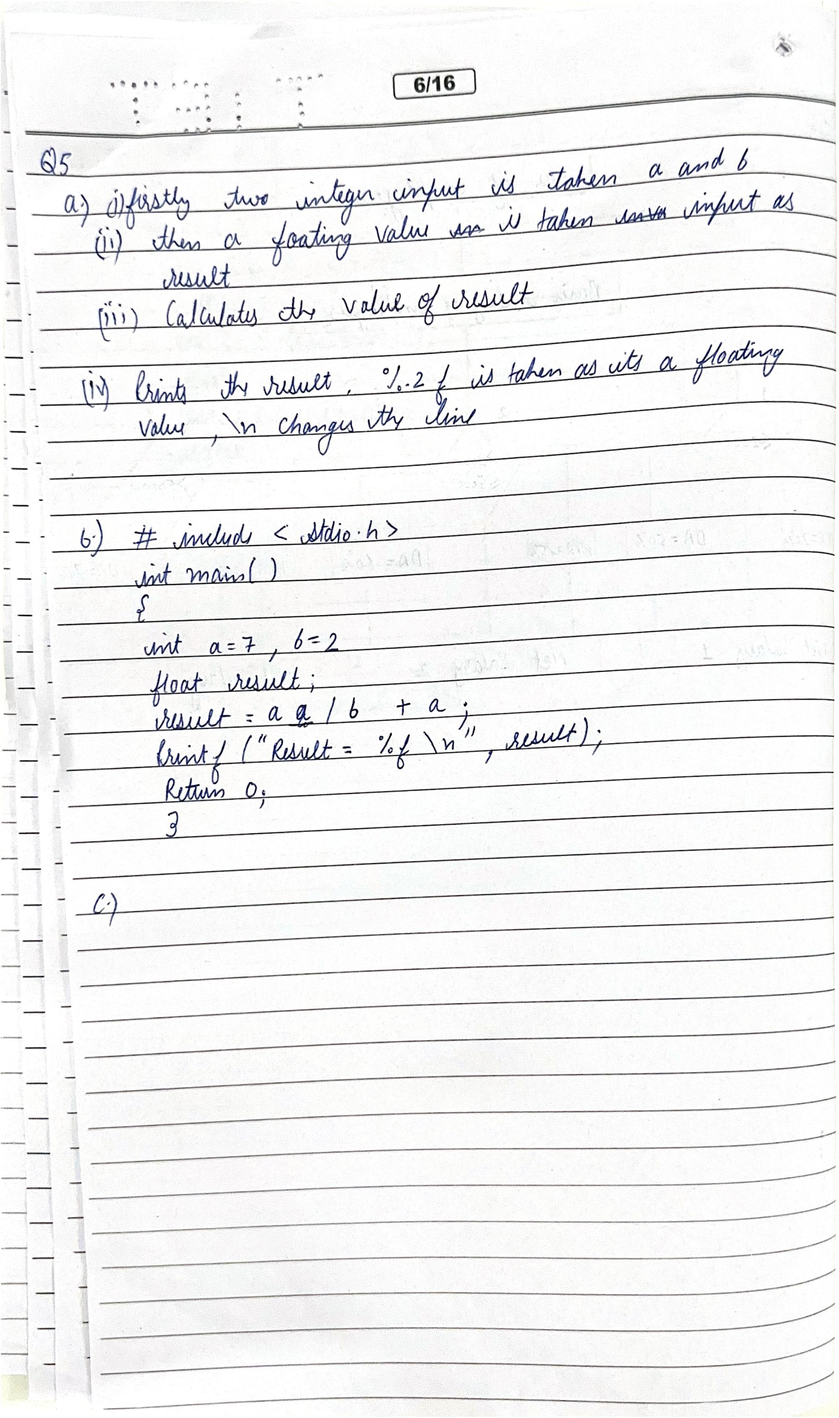cuttings: (614, 204, 667, 225), (287, 704, 314, 729), (449, 222, 486, 239)
